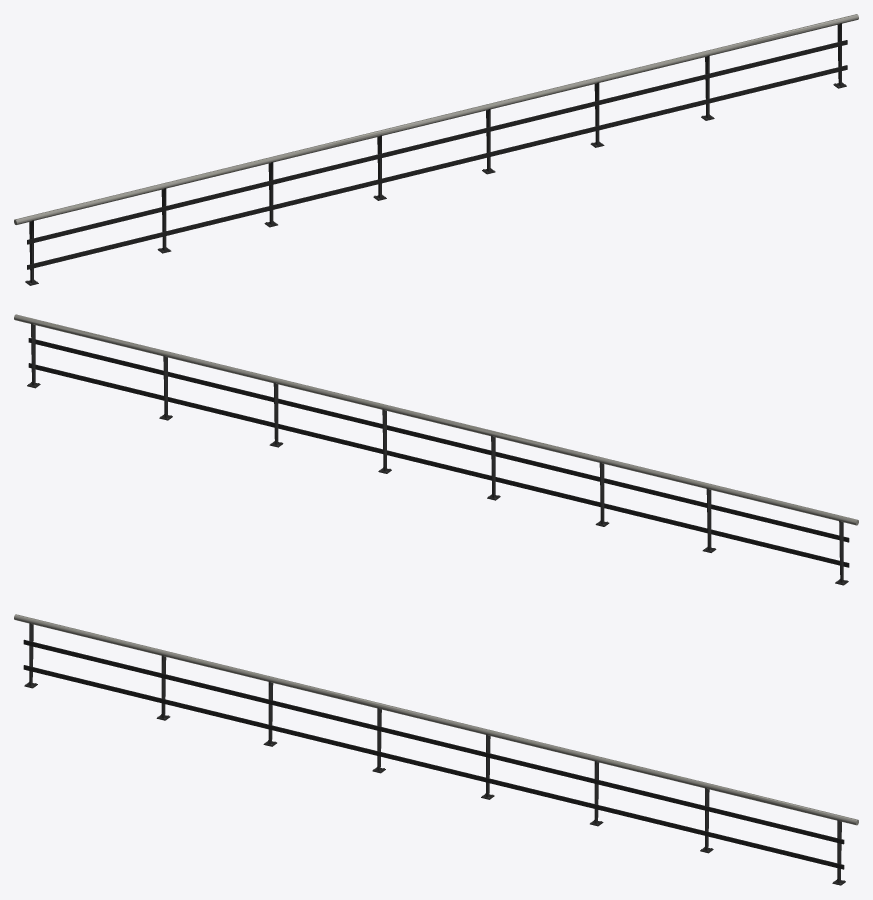
3 views of the same model, one above another, from view 1: azimuth 30°, elevation 25°; view 2: azimuth 150°, elevation 25°; view 3: azimuth 330°, elevation 25° (orthographic).
Visible parts, largest first — view 1: body0_model0_lod0_mesh0; view 2: body0_model0_lod0_mesh0; view 3: body0_model0_lod0_mesh0.
Part boxes in pixels (x1=…): body0_model0_lod0_mesh0: x1=14, y1=14, x2=858, y2=285; body0_model0_lod0_mesh0: x1=14, y1=314, x2=858, y2=585; body0_model0_lod0_mesh0: x1=14, y1=614, x2=858, y2=885.
Size of the model in its own units: 496 by 37.66 by 5.15.
1 material, 1 textured.
